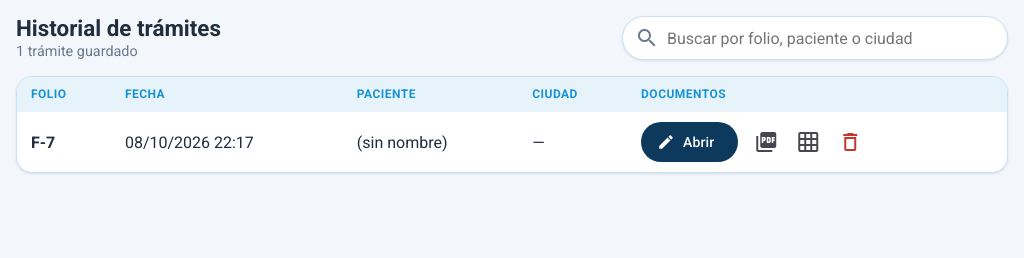
Test: HistorialComponent › el botón "Eliminar" pide confirmación, borra el registro y lo quita de la lista
This screenshot has width=1024, height=258.
Click the button named "Eliminar" at (850, 142), box [830, 122, 870, 162]
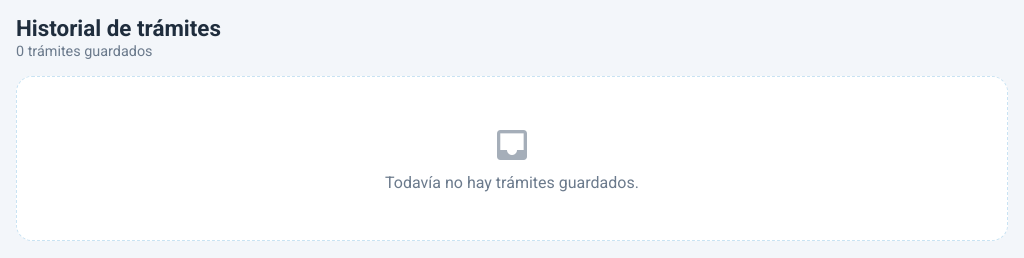
Check: the text "Todavía no hay trámites guardados." is shown
